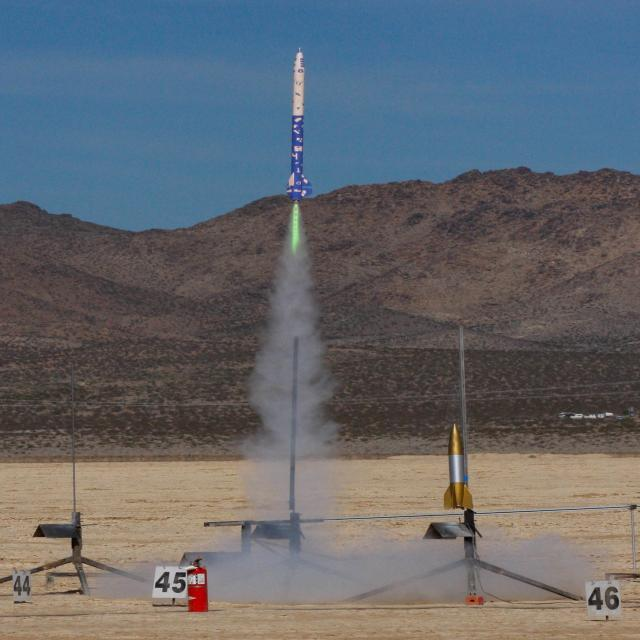Rocket: (283, 47, 315, 204), (439, 422, 477, 512)
